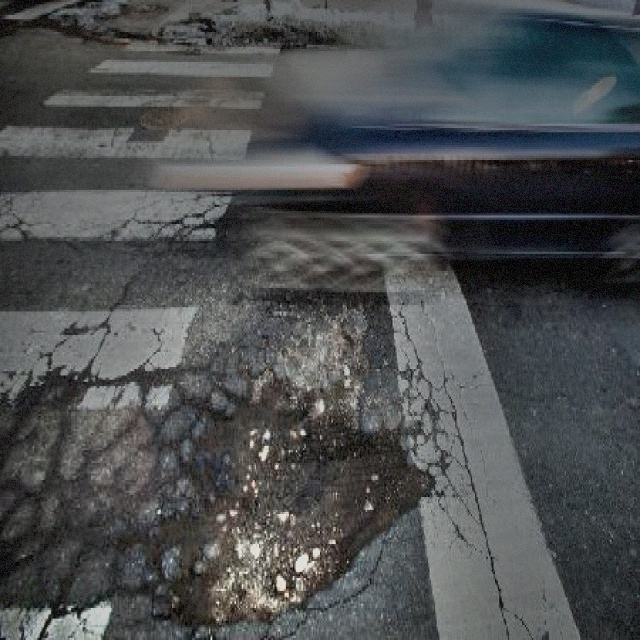pothole: (155, 378, 425, 632)
